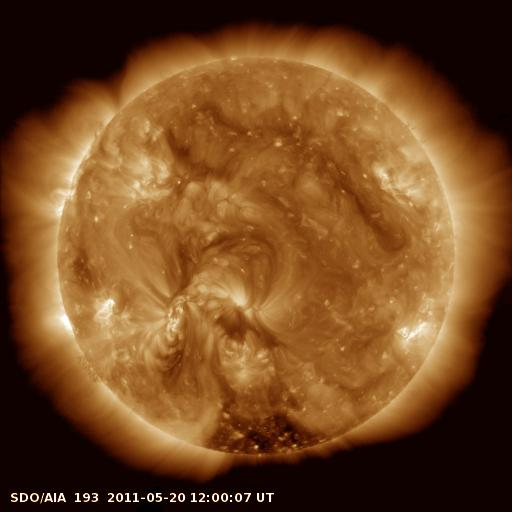coronal_hole: (198, 396, 340, 458)
